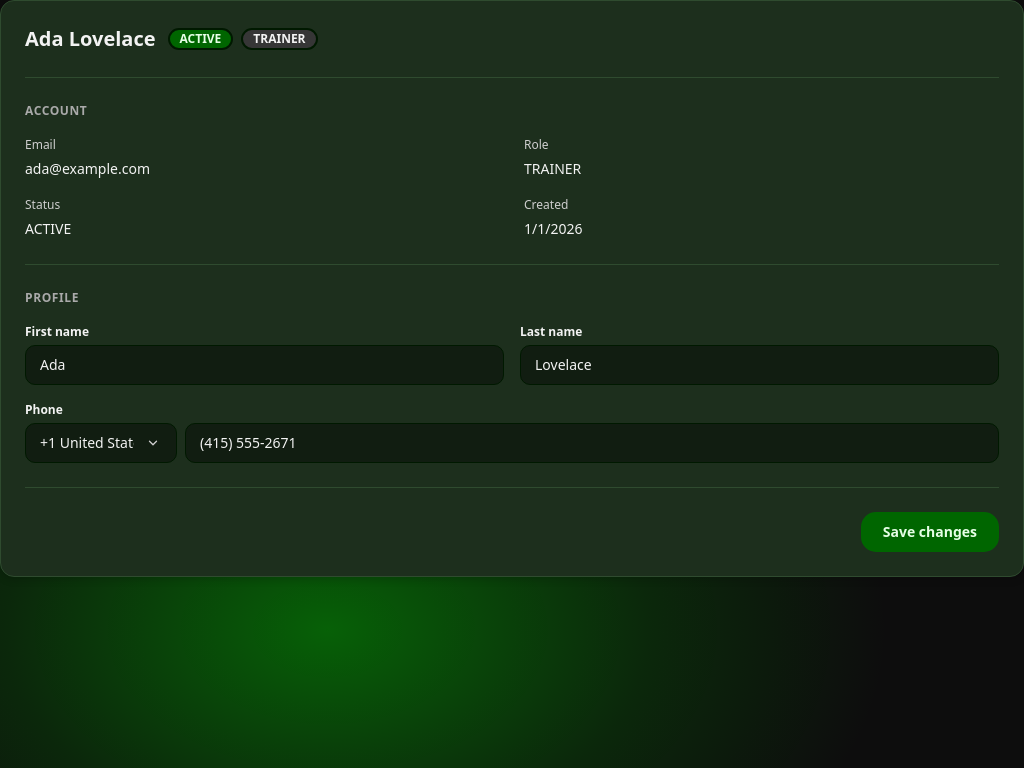
Test: UserDetailForm › shows a validation error and does not submit when first name is cleared
The image size is (1024, 768).
Step 1. Clear the field labelled "First name" → (264, 365), box x1=25 y1=345 x2=504 y2=385
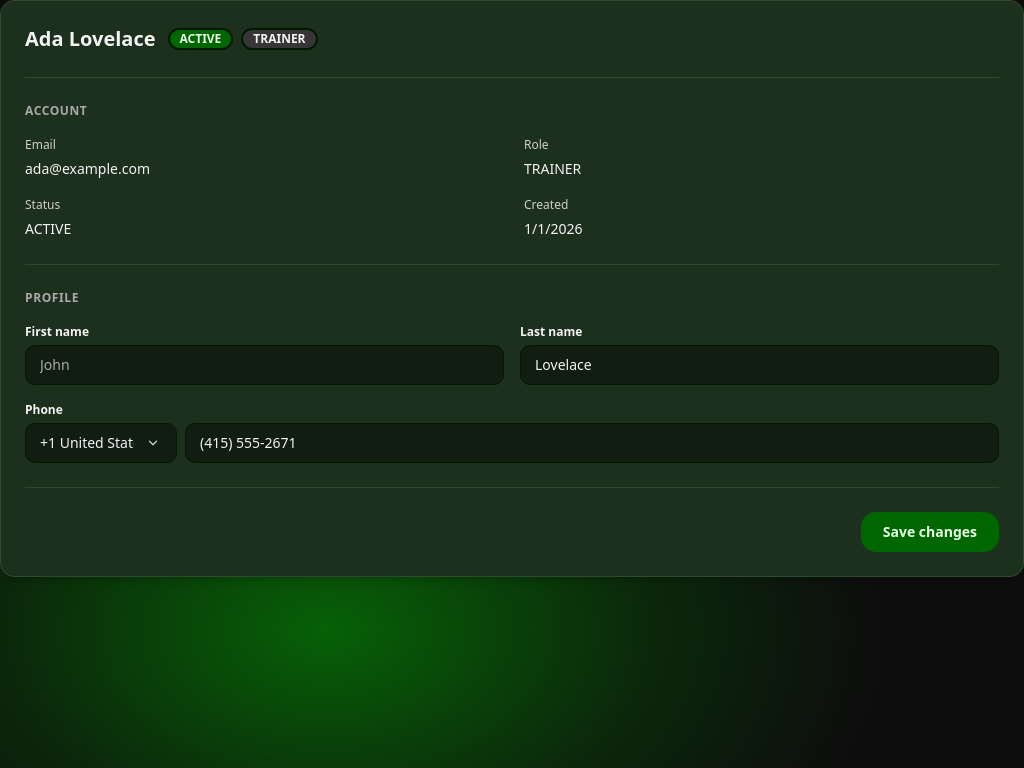
Step 2. Click the button "Save changes" → (930, 532), box x1=861 y1=512 x2=999 y2=552
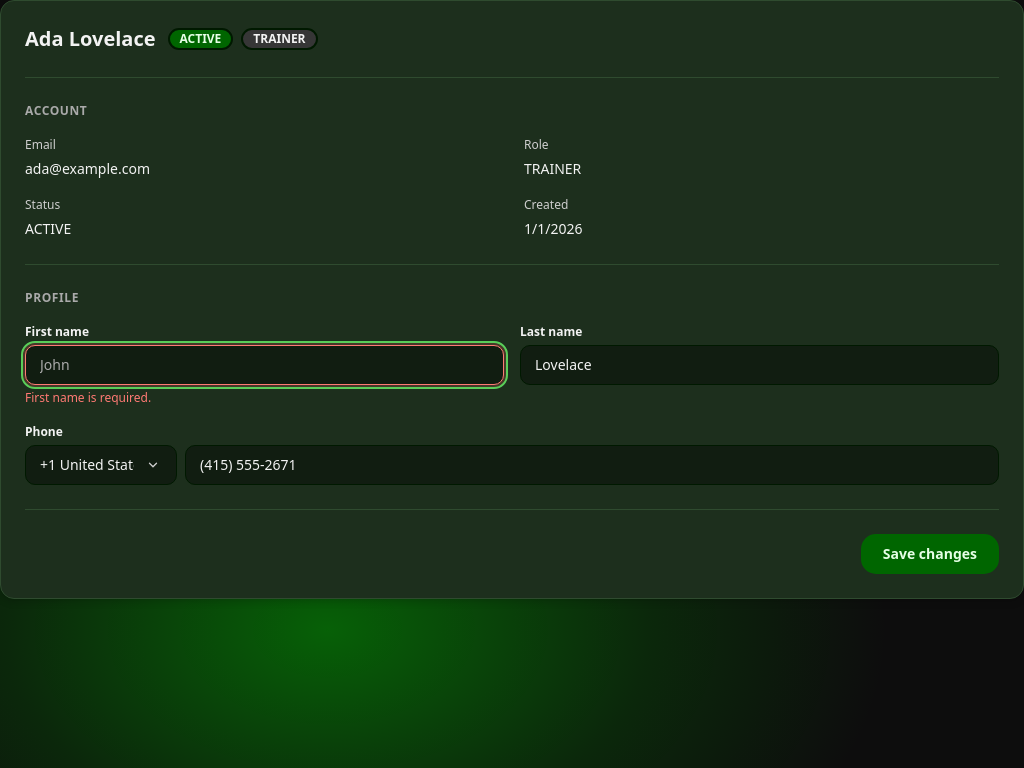
Expected: the text "First name is required." is shown, x1=25 y1=389 x2=151 y2=406
